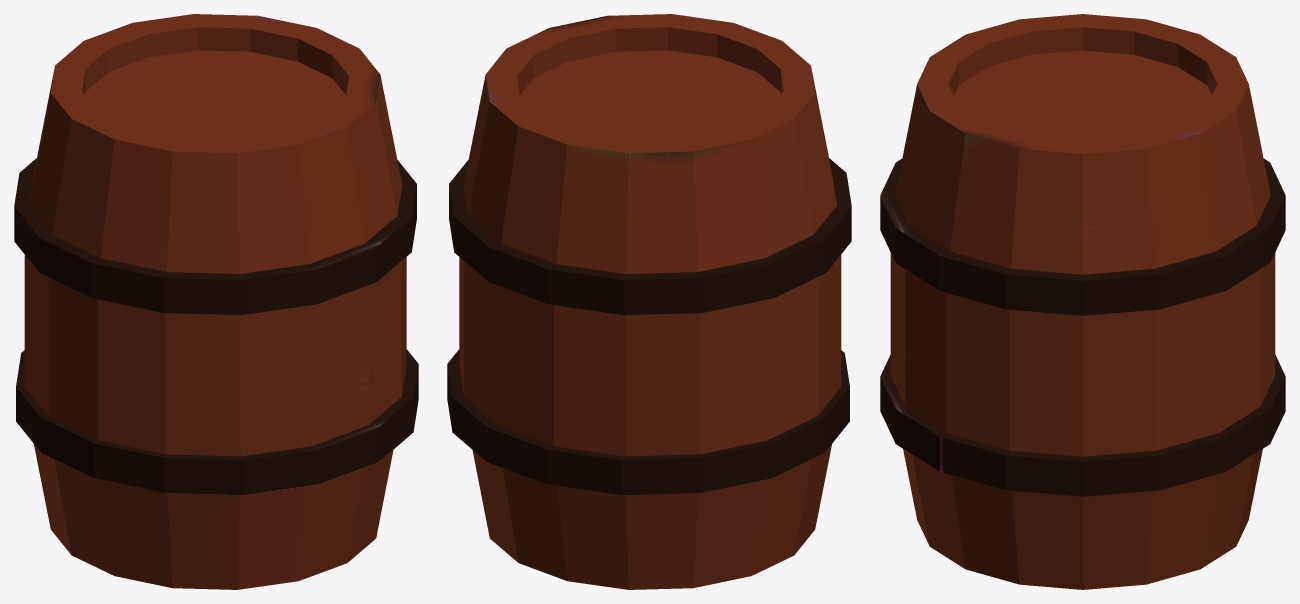
The model's file is Barrel.fbx.
3 views of the same model, side by side, from view 1: azimuth 30°, elevation 25°; view 2: azimuth 150°, elevation 25°; view 3: azimuth 270°, elevation 25° (orthographic).
Parts seen in each view (by area): view 1: Barrel; view 2: Barrel; view 3: Barrel.
Boxes of the visible parts, bbox=[...] form: Barrel: bbox=[14, 14, 418, 589]; Barrel: bbox=[447, 14, 851, 589]; Barrel: bbox=[880, 14, 1285, 589].
Bounding box in the file's own units: 246 × 290 × 244.
